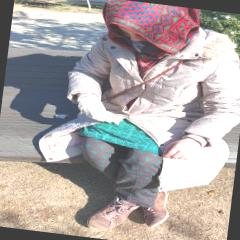gloved: (74, 96, 123, 123)
not-gloved: (163, 135, 200, 162)
